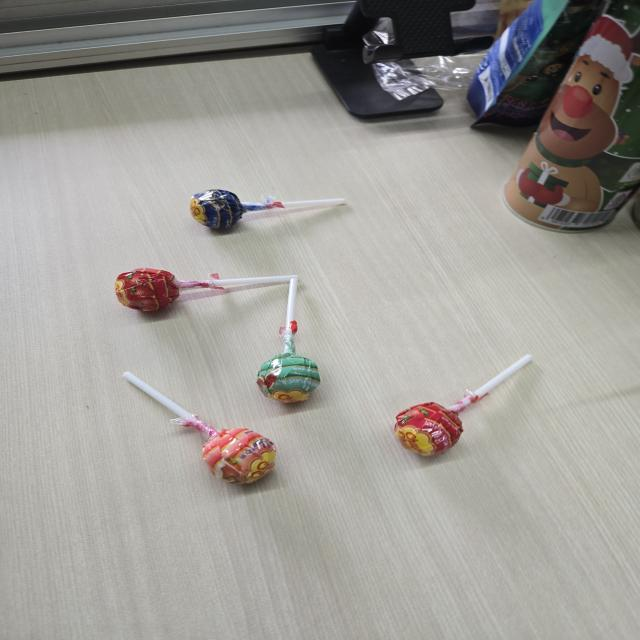lollipop: (121, 365, 282, 492), (389, 352, 534, 464), (112, 263, 302, 316), (256, 274, 323, 410), (190, 185, 355, 235)
